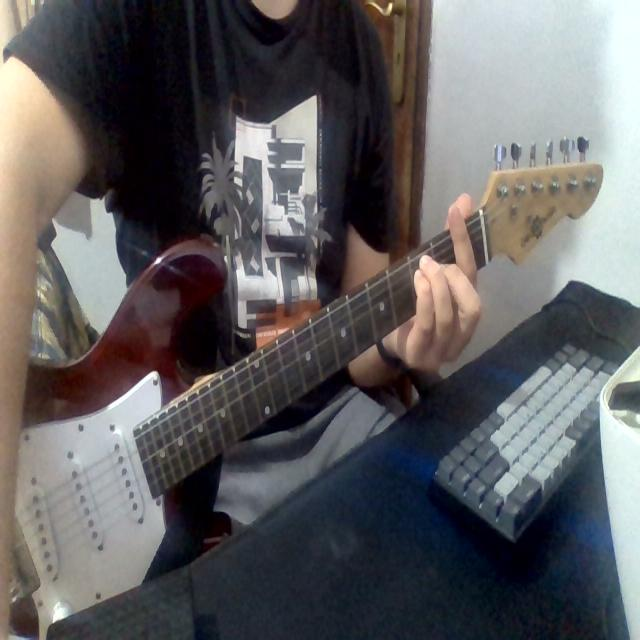F: (399, 187, 516, 387)
